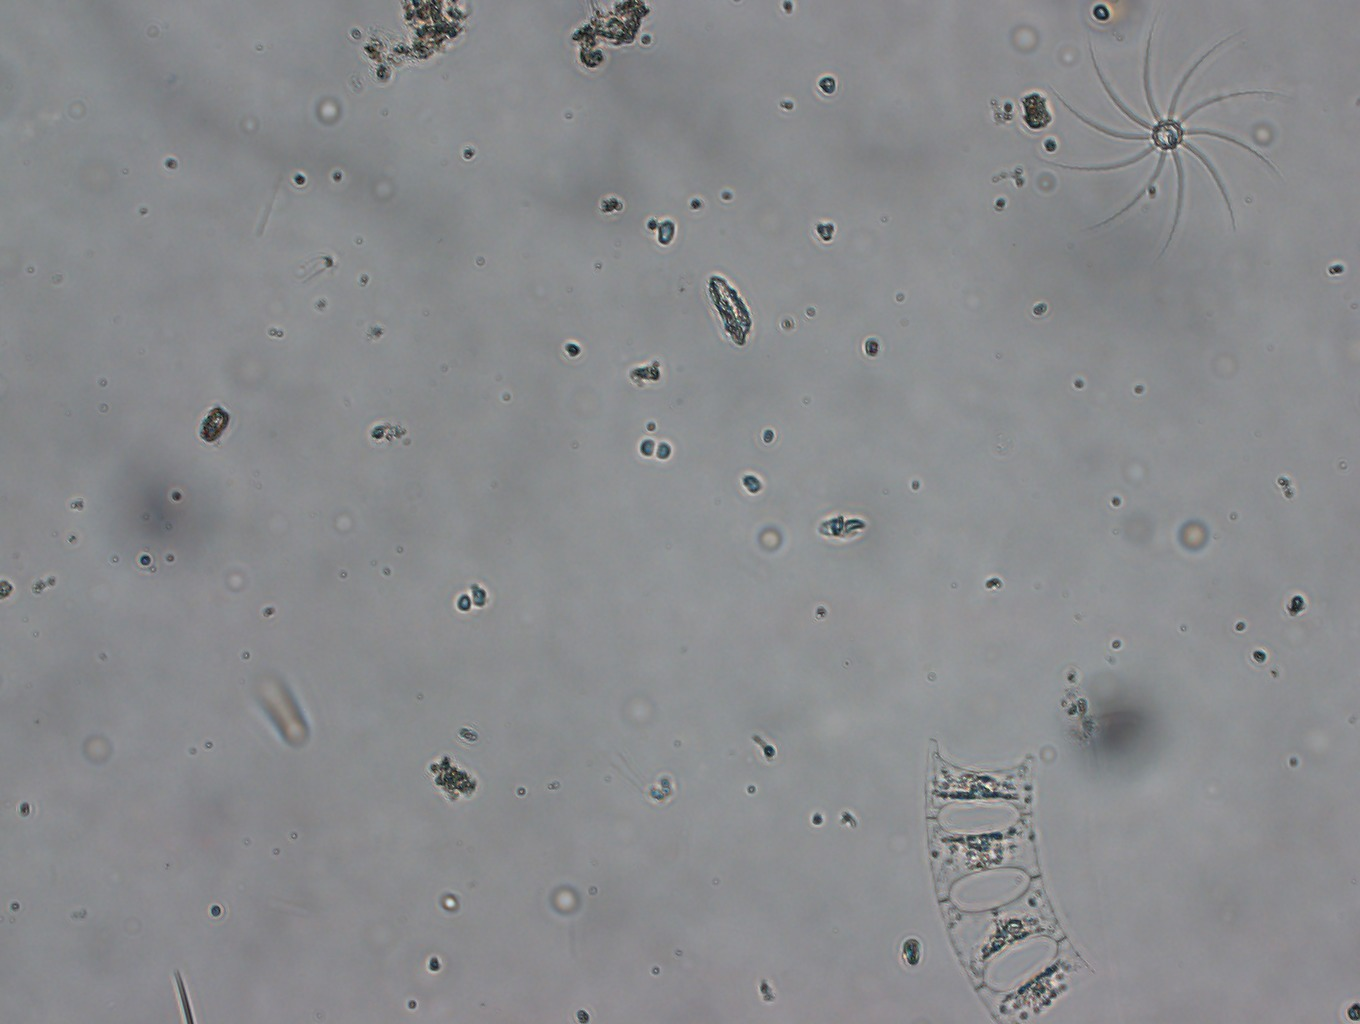bacteriastrum: (1045, 16, 1295, 242)
eucampia: (917, 725, 1101, 1024)
